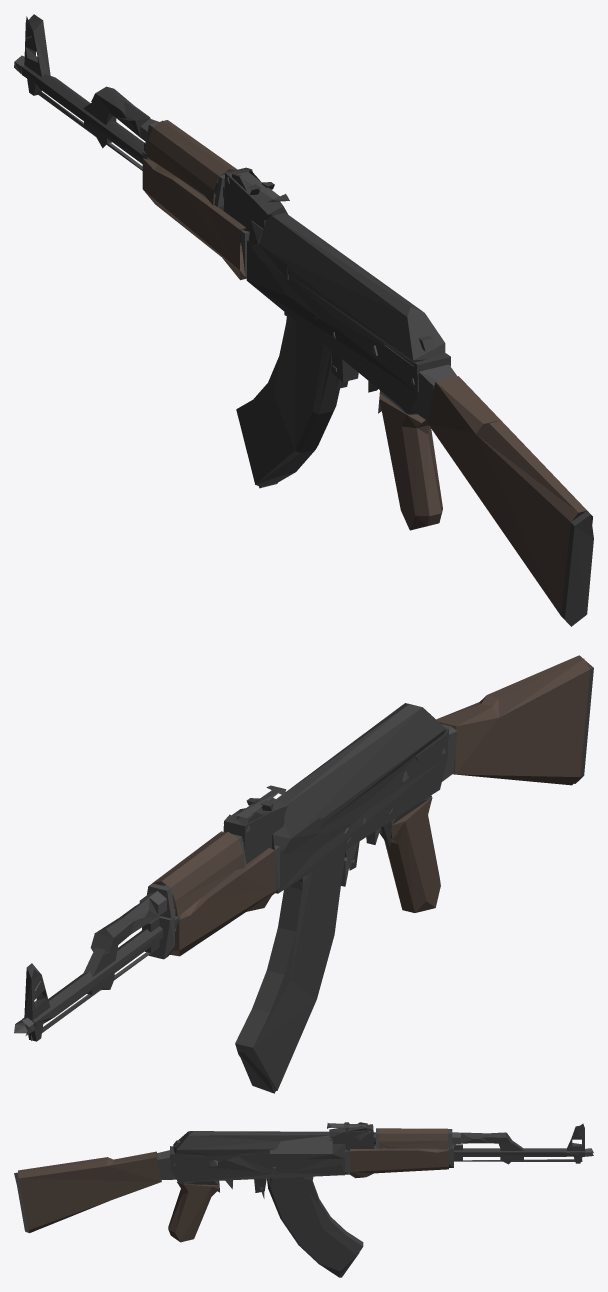
3 views of the same model, one above another, from view 1: azimuth 30°, elevation 25°; view 2: azimuth 150°, elevation 25°; view 3: azimuth 270°, elevation 25° (orthographic). The views are drawn at different scales.
Visible parts, largest first — view 1: Cube.015_5, Cube.015_10, Cube.015_0; view 2: Cube.015_5, Cube.015_10, Cube.015_0; view 3: Cube.015_5, Cube.015_10, Cube.015_0, Cube.015_6.
Part boxes in pixels (x1,y1,x2,y2): Cube.015_5: (21, 14, 593, 626); Cube.015_10: (142, 120, 592, 615); Cube.015_0: (26, 36, 456, 421); Cube.015_5: (22, 655, 593, 1093); Cube.015_10: (142, 657, 590, 956); Cube.015_0: (31, 724, 457, 1040); Cube.015_5: (14, 1122, 585, 1277); Cube.015_10: (18, 1128, 448, 1242); Cube.015_0: (157, 1123, 582, 1198); Cube.015_6: (270, 1135, 332, 1153).
Size of the model in its own units: 0.0429 by 0.2898 by 1.
